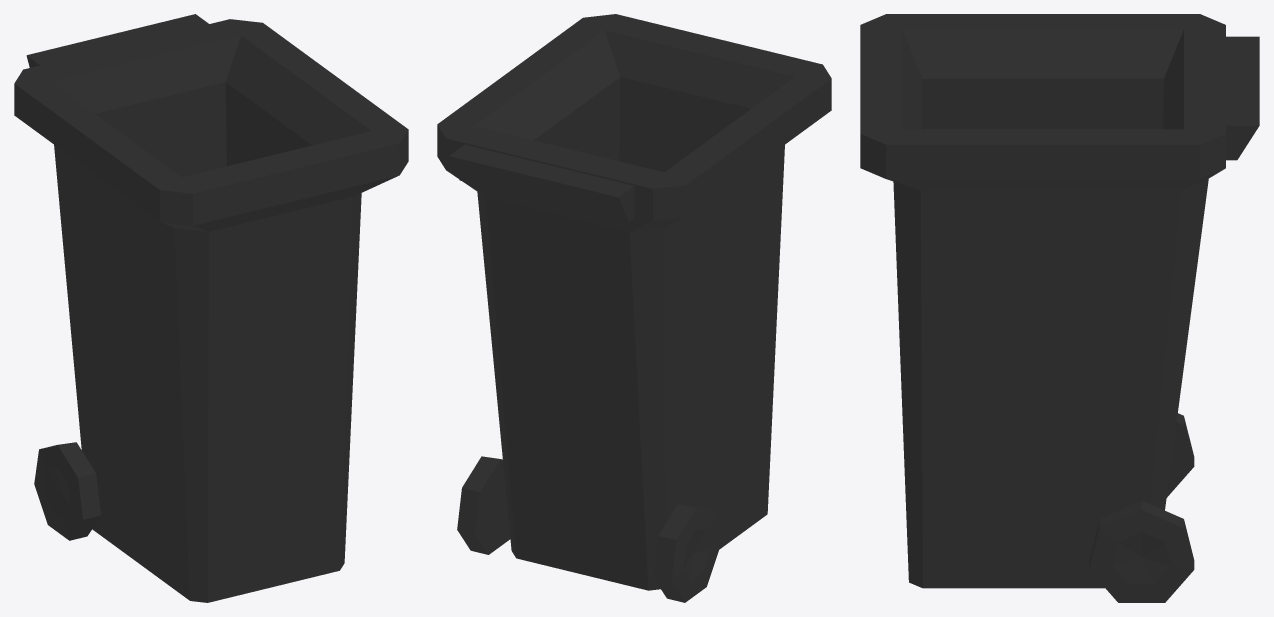
Rendered from bin-wheelie-base.glb.
The picture shows the model from 3 angles, left to right: view 1: azimuth 30°, elevation 25°; view 2: azimuth 150°, elevation 25°; view 3: azimuth 270°, elevation 25°; orthographic projection. The views are drawn at different scales.
Visible parts, largest first — view 1: bin-wheelie-base; view 2: bin-wheelie-base; view 3: bin-wheelie-base.
Boxes of the visible parts, x1=… form: bin-wheelie-base: x1=14, y1=14, x2=408, y2=602; bin-wheelie-base: x1=437, y1=14, x2=831, y2=602; bin-wheelie-base: x1=860, y1=14, x2=1259, y2=602.
Bounding box in the file's own units: 0.596 × 0.996 × 0.7695.
1 material, 1 textured.
